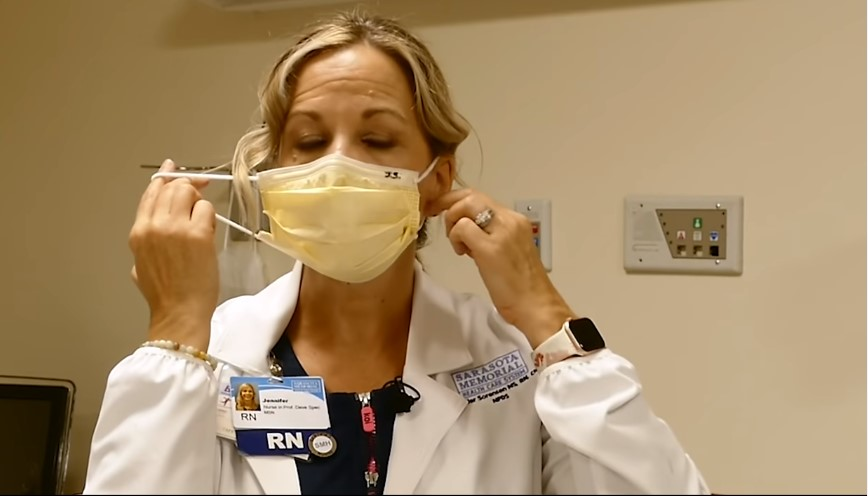face_with_mask: (256, 22, 456, 283)
